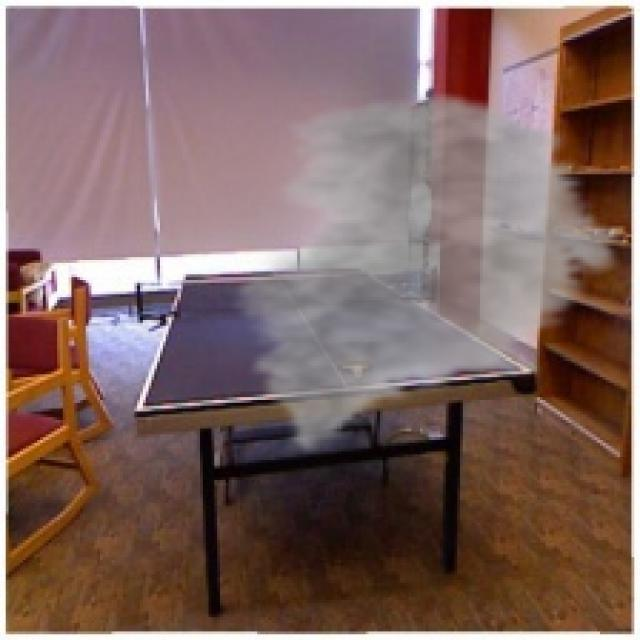Smoke: (222, 89, 634, 458)
